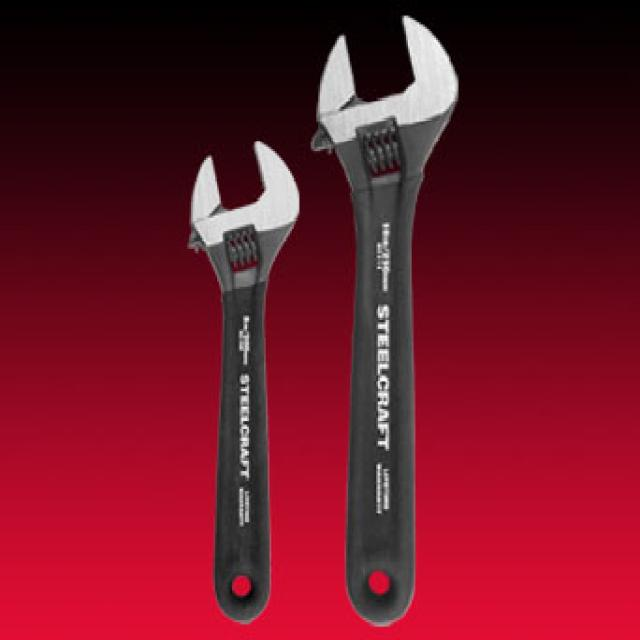wrench: (291, 5, 494, 581), (178, 111, 314, 557)
